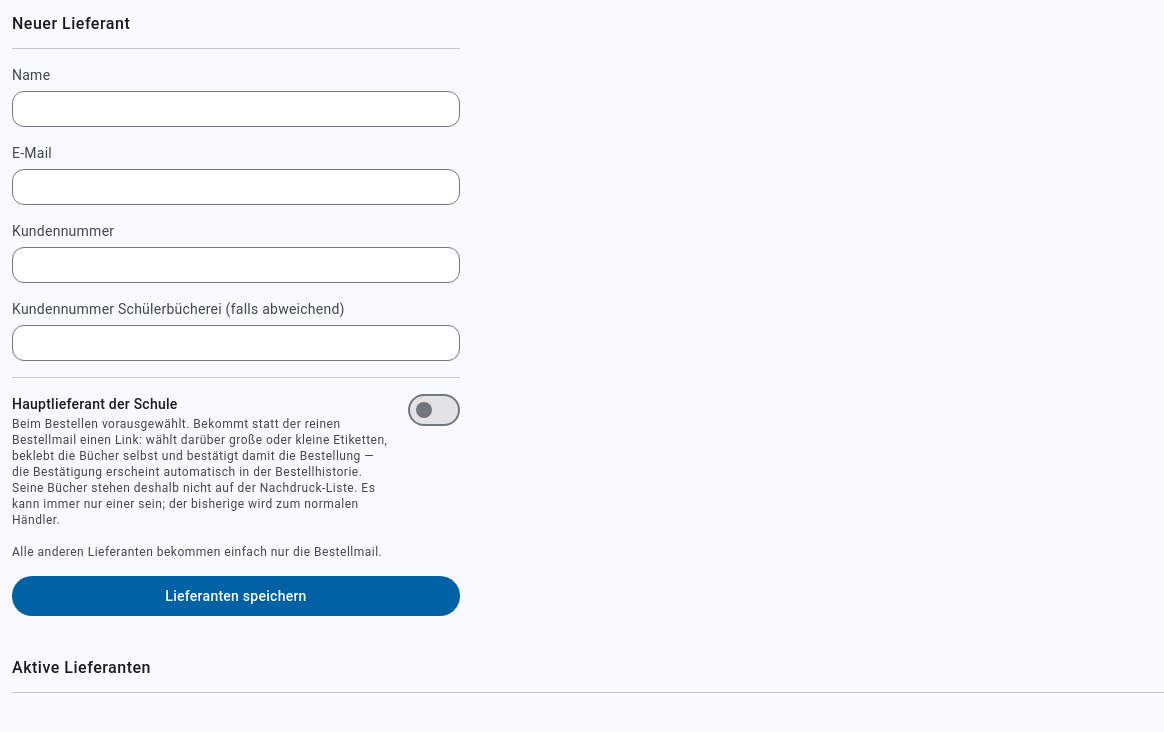
Test: Lieferanten › schickt einen zweiten Klick nicht, solange das Anlegen läuft
Type "Buchhandlung Neu" into the field labelled "Name" at (236, 109), box [12,91,460,127]
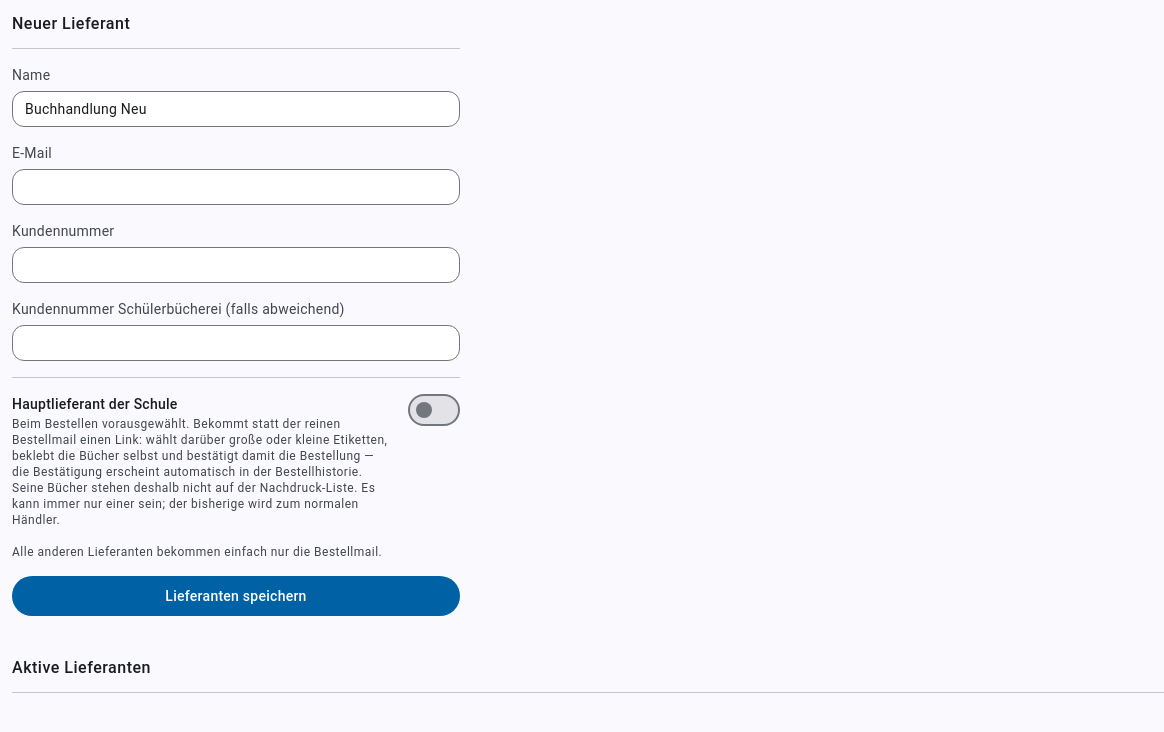
Type "neu@example.org" into the field labelled "E-Mail" at (236, 187), box [12,169,460,205]
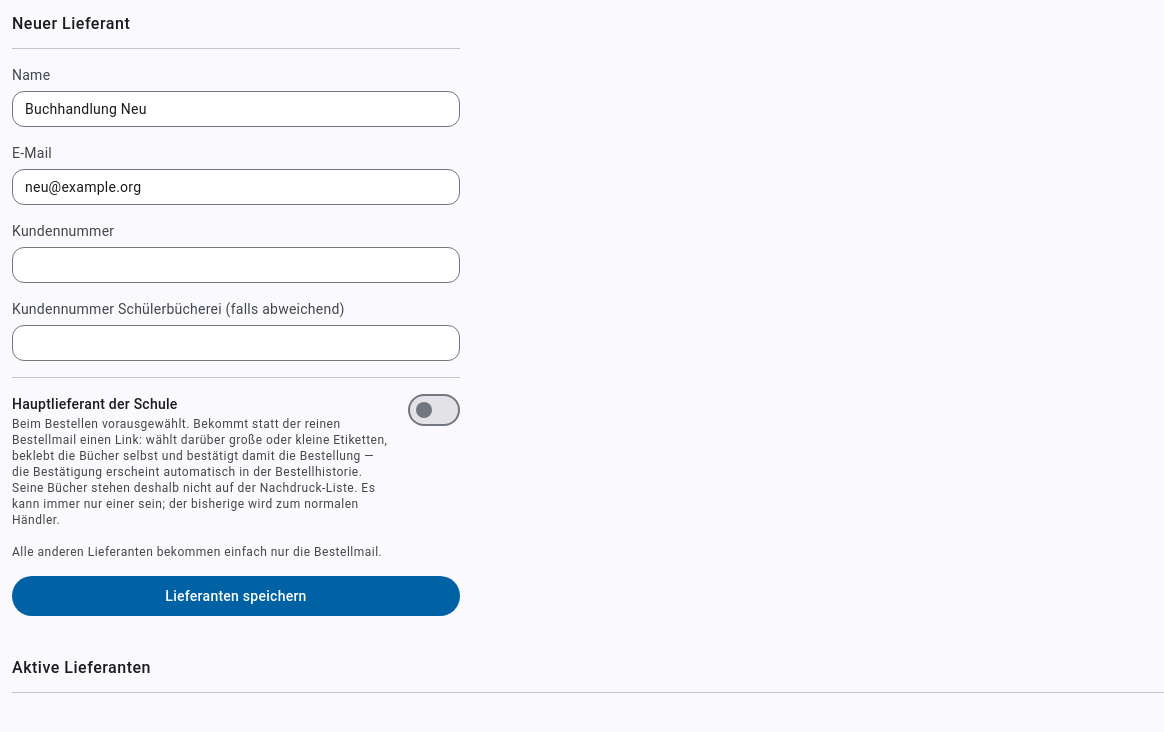
Type "K-9" into the field labelled "Kundennummer" at (236, 265), box [12,247,460,283]
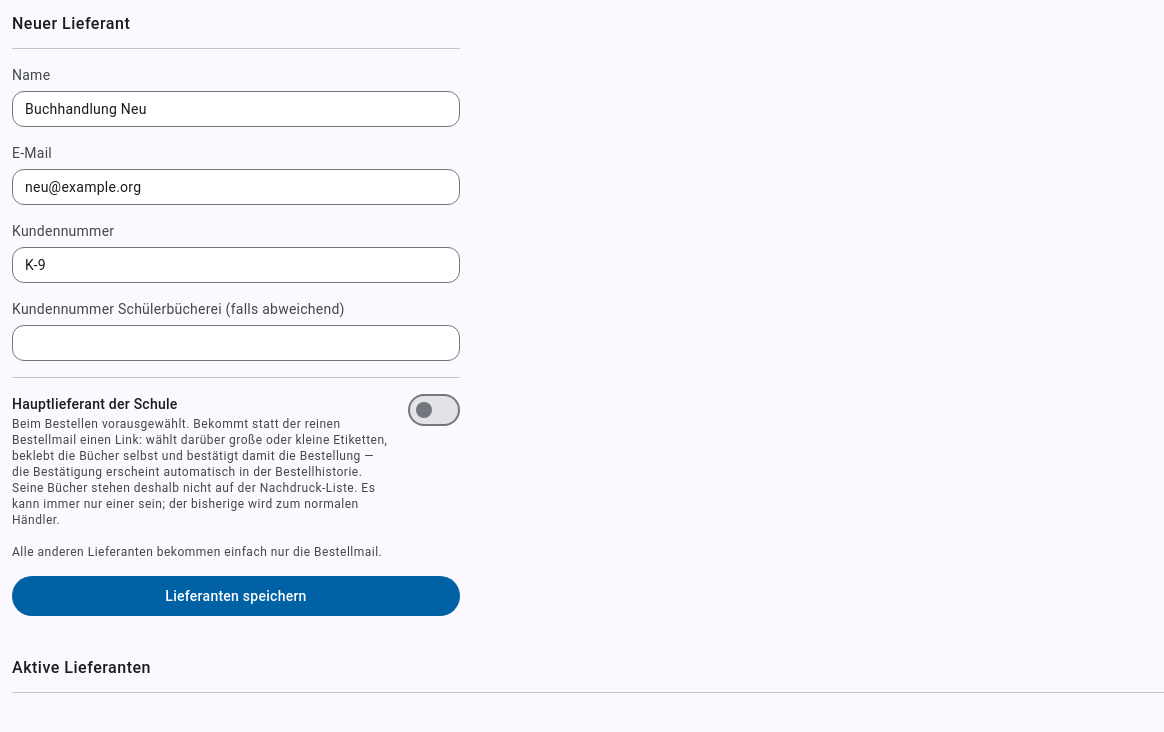
Click the button "Lieferanten speichern" at (236, 596), box [12,576,460,616]
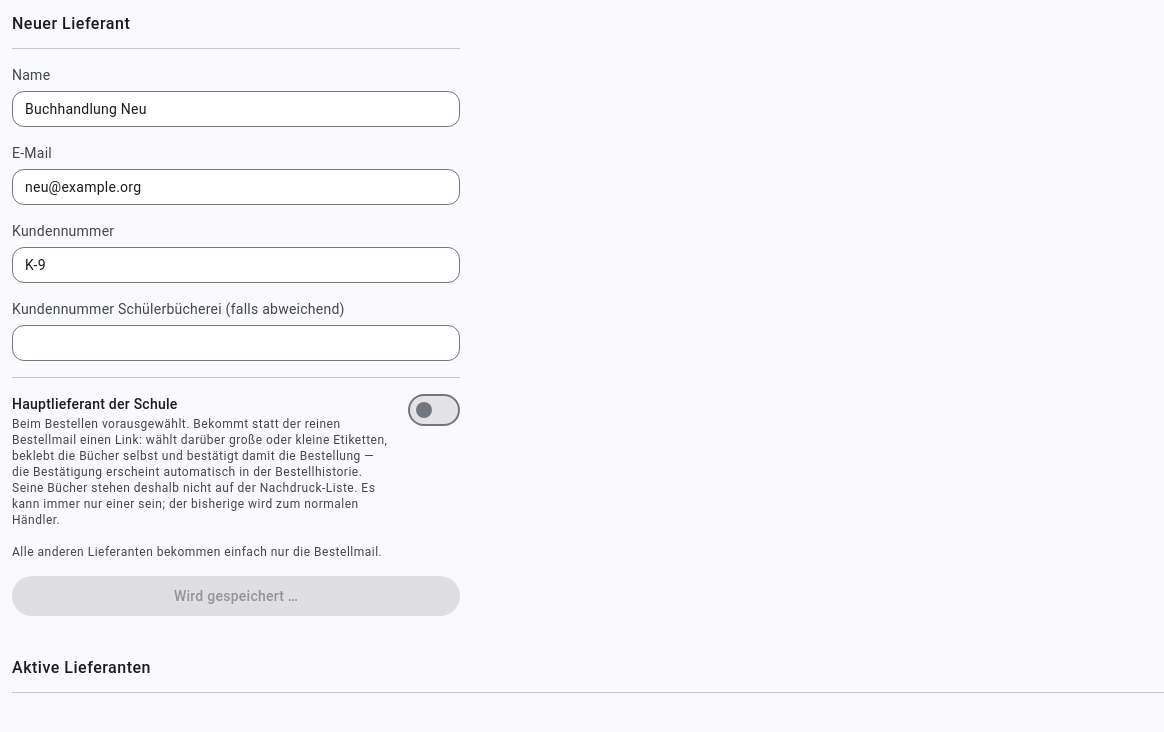
Expected: the button "Wird gespeichert …" is disabled, [12,576,460,616]
Submit the form named "Wird gespeichert …", box [12,65,460,616]
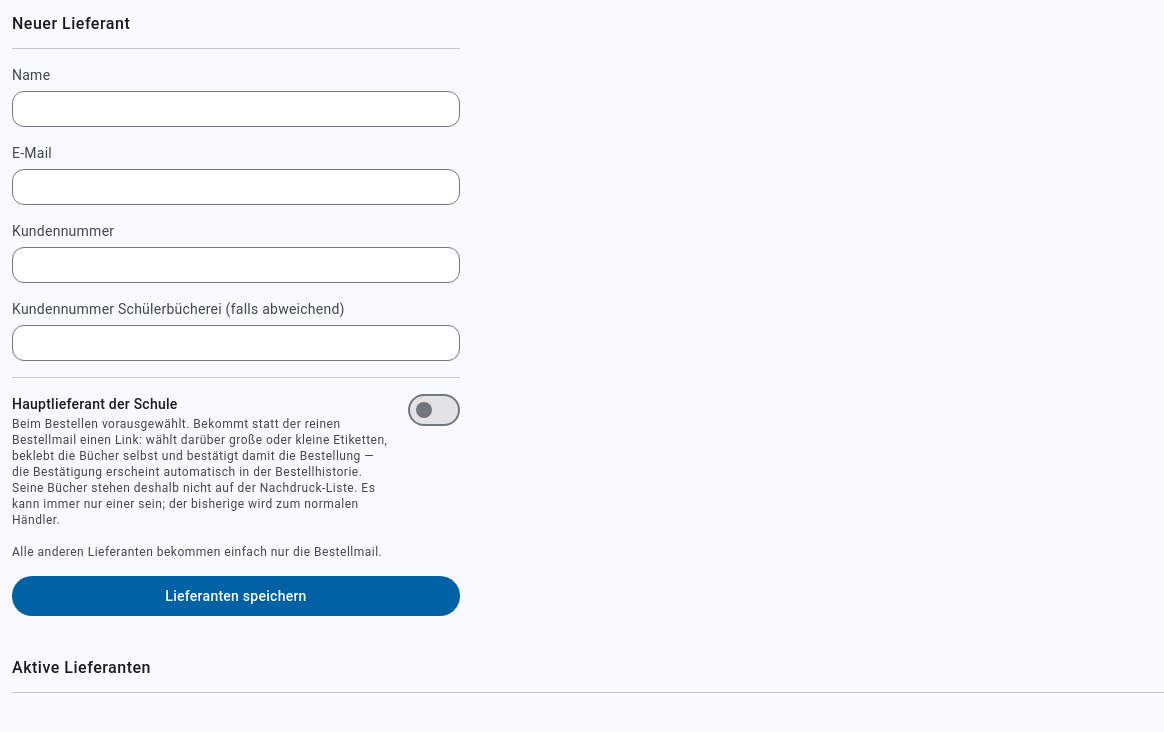
Expected: the button "Lieferanten speichern" is shown, [12,576,460,616]
